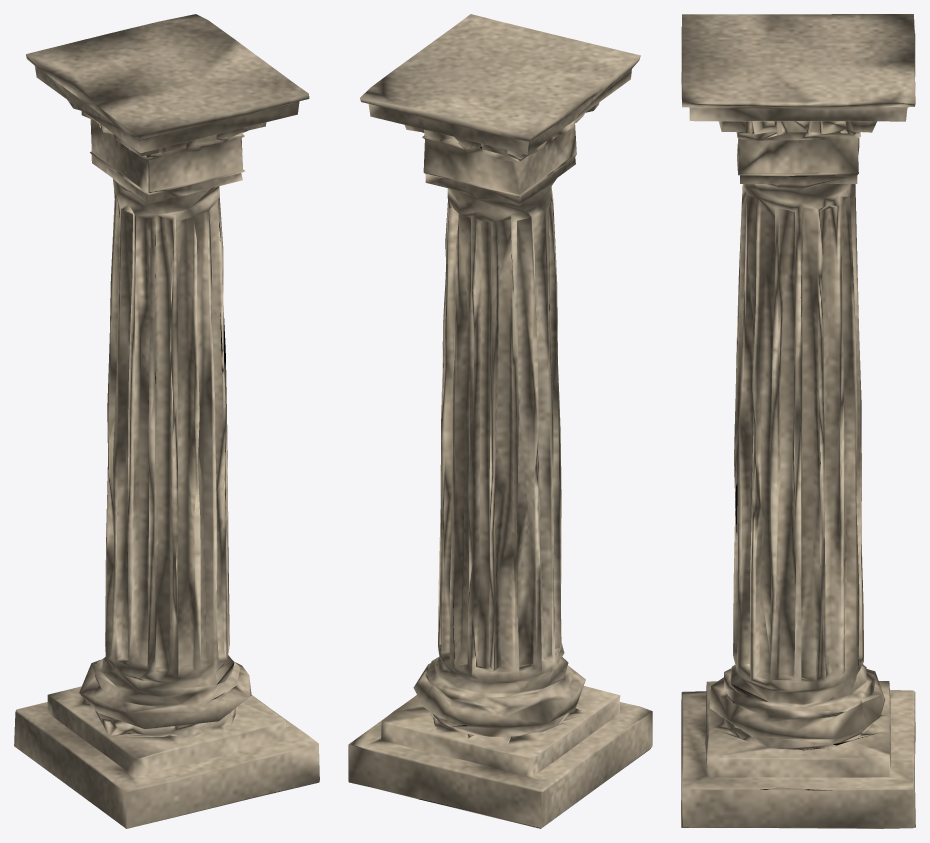
Rendered from pillar.glb.
The picture shows the model from 3 angles, left to right: view 1: azimuth 30°, elevation 25°; view 2: azimuth 150°, elevation 25°; view 3: azimuth 270°, elevation 25°; orthographic projection. The views are drawn at different scales.
Visible parts, largest first — view 1: Mesh_0.001; view 2: Mesh_0.001; view 3: Mesh_0.001.
Boxes of the visible parts, x1,y1,x2,y2 form: Mesh_0.001: (14, 14, 319, 828); Mesh_0.001: (348, 14, 652, 828); Mesh_0.001: (681, 14, 915, 828).
Size of the model in its own units: 0.562 by 1.9 by 0.5603.
1 material, 1 textured.
